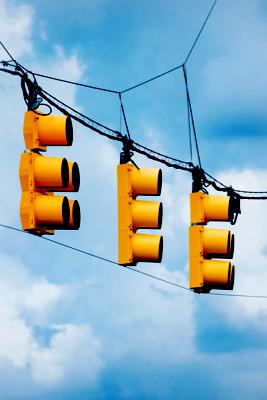International Road Signal Light: (17, 102, 91, 246), (114, 159, 163, 273), (188, 189, 236, 298)
